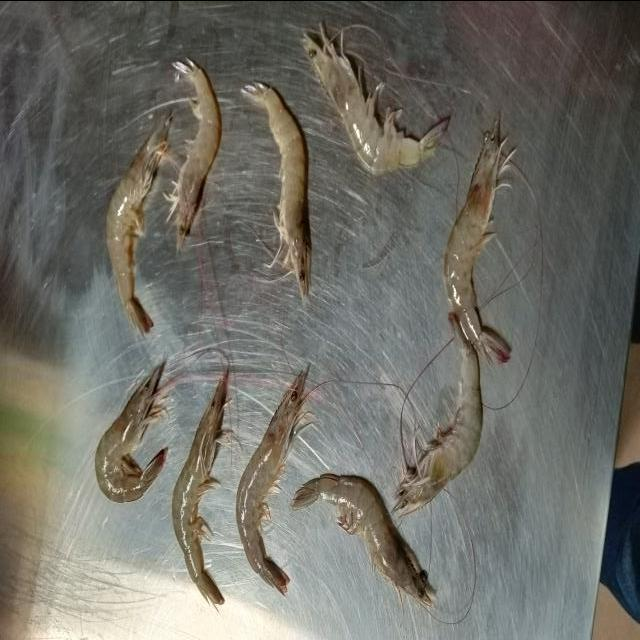shrimp: (310, 31, 449, 173), (294, 474, 432, 605), (444, 120, 509, 361), (236, 377, 302, 594), (244, 82, 310, 297), (396, 354, 482, 514), (106, 120, 169, 332), (171, 385, 222, 602), (169, 60, 221, 246), (95, 366, 162, 501)
